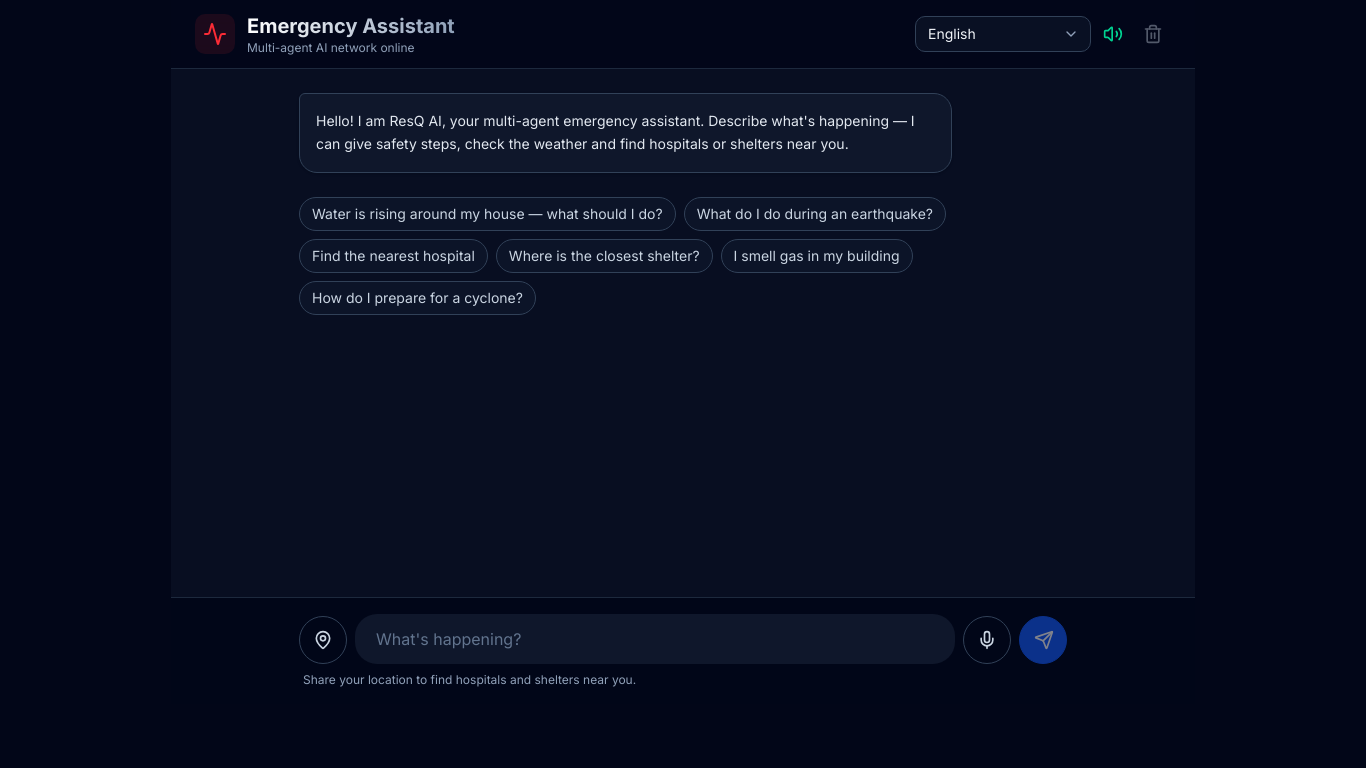
Test: ChatView › shows an inline error bubble with Retry instead of an alert
In the text box named "Describe your situation": (655, 639) [355,614,955,664], type "Earthquake!"
Then press Enter
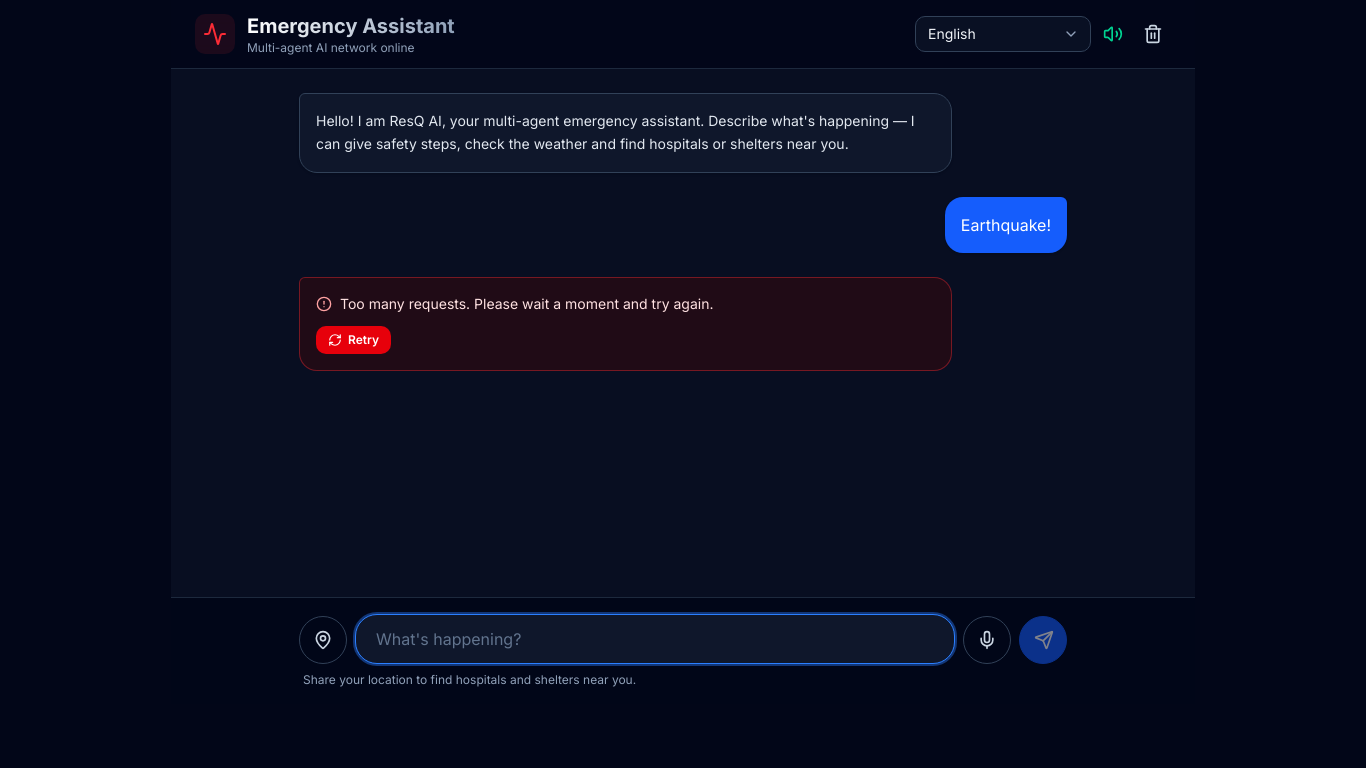
expect the message shows "Too many requests": met, box [340,294,714,312]
Click the button "Retry": (354, 340) [316,326,391,354]
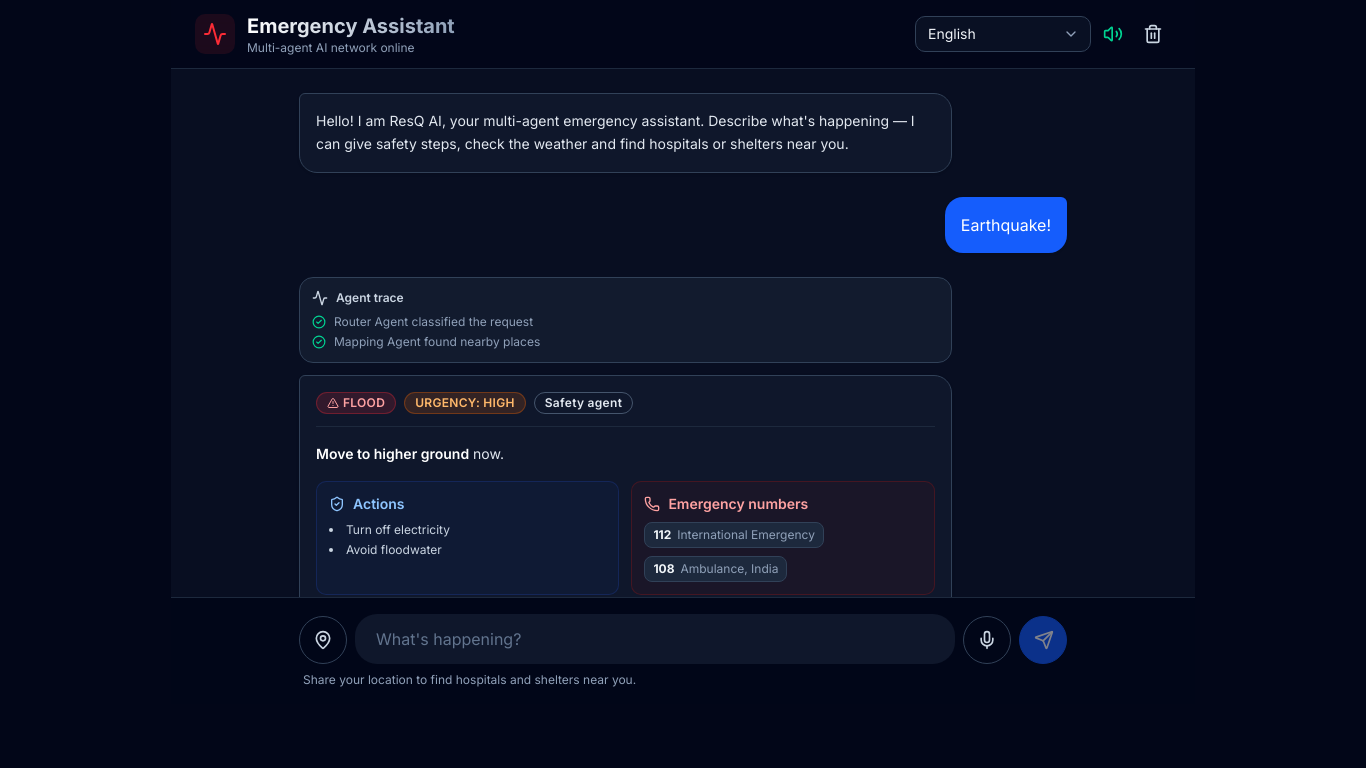
expect the text "Earthquake!" is shown: met, box [945,196,1067,252]
expect the text "Move to higher ground" is shown: met, box [316,444,469,462]
expect the message "Too many requests. Please wait a moment and try again. Retry" is gone: met
